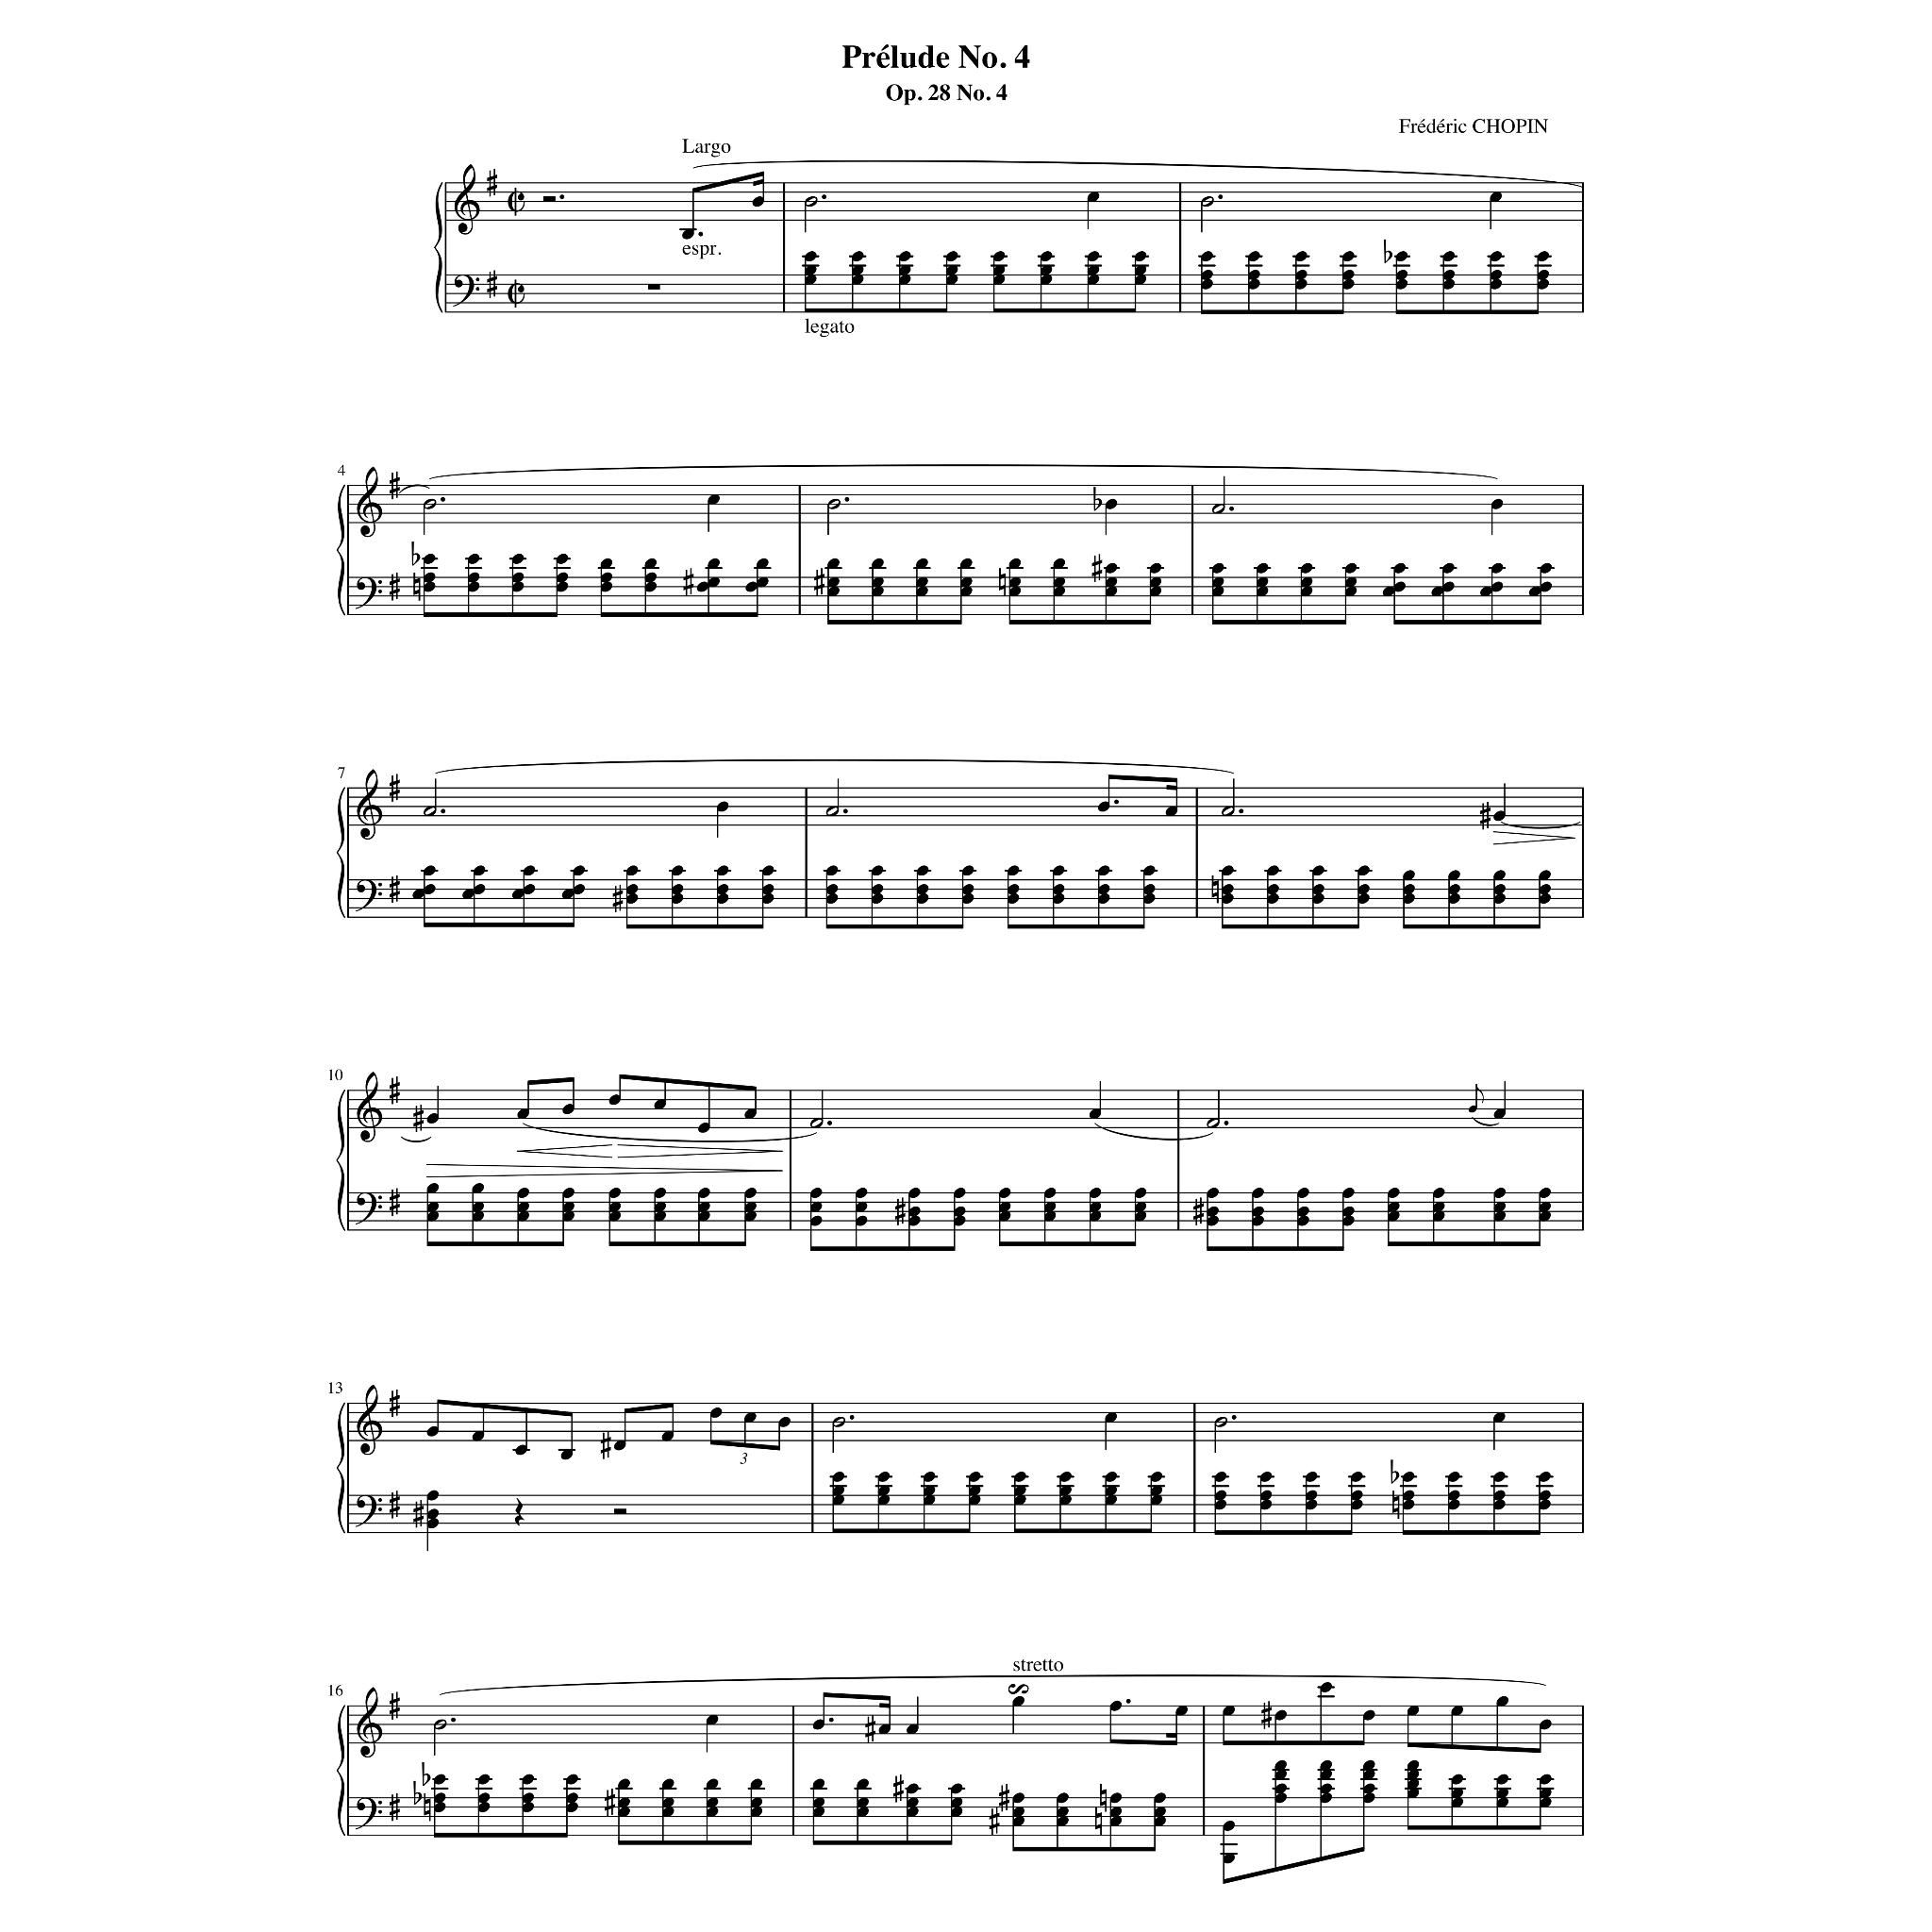brace: (336, 1090, 345, 1231), (433, 182, 442, 315), (336, 1401, 345, 1534), (336, 1704, 345, 1836), (336, 485, 345, 616), (336, 787, 345, 918)
fClef: (354, 577, 382, 610), (354, 879, 382, 913), (354, 1495, 382, 1529), (354, 1798, 382, 1831), (354, 1192, 382, 1224), (453, 274, 479, 308)
flag8thUp: (1476, 1085, 1484, 1104)
gClef: (356, 465, 382, 538), (356, 1384, 382, 1456), (356, 1686, 382, 1759), (453, 165, 479, 235), (356, 770, 382, 840), (356, 1072, 382, 1143)
noteheadBlack: (1247, 269, 1260, 281), (1295, 269, 1307, 281), (1134, 274, 1146, 287), (1536, 269, 1548, 281), (1490, 269, 1502, 281), (1341, 269, 1353, 281), (1394, 269, 1407, 281), (1442, 269, 1454, 281), (1490, 191, 1502, 203), (993, 274, 1005, 287), (1039, 274, 1051, 287), (1086, 191, 1099, 203), (1086, 274, 1099, 287), (851, 274, 863, 287), (897, 274, 909, 287), (1212, 586, 1224, 598), (1148, 586, 1161, 598), (1053, 586, 1065, 598), (1008, 586, 1021, 598), (1106, 586, 1118, 598), (1539, 580, 1552, 593), (1529, 586, 1541, 598), (1490, 580, 1502, 593), (1479, 586, 1491, 598), (1345, 586, 1357, 598), (1300, 586, 1313, 598), (1254, 586, 1267, 598), (1442, 580, 1454, 593), (1431, 586, 1444, 598), (1392, 580, 1405, 593), (1382, 586, 1394, 598), (556, 571, 568, 584), (556, 580, 568, 593), (511, 571, 524, 584), (511, 580, 524, 593), (467, 571, 479, 584), (467, 580, 479, 593), (644, 571, 656, 584), (600, 571, 612, 584), (600, 580, 612, 593), (644, 580, 656, 593), (423, 571, 435, 584), (423, 580, 435, 593), (826, 586, 839, 598), (870, 586, 883, 598), (695, 580, 708, 593), (708, 494, 720, 506), (915, 586, 927, 598), (745, 580, 757, 593), (1164, 805, 1177, 817), (561, 888, 573, 901), (511, 888, 524, 901), (462, 888, 474, 901), (412, 888, 425, 901), (1207, 1187, 1219, 1200), (1207, 1205, 1219, 1217), (1134, 1187, 1146, 1200), (1134, 1201, 1146, 1214), (1251, 1205, 1263, 1217), (1251, 1187, 1263, 1200), (998, 1187, 1010, 1200), (998, 1201, 1010, 1214), (954, 1187, 966, 1200), (954, 1205, 966, 1217), (1090, 1201, 1102, 1214), (1090, 1187, 1102, 1200), (1044, 1187, 1056, 1200), (1044, 1201, 1056, 1214), (1537, 1187, 1550, 1200), (1537, 1201, 1550, 1214), (1387, 1187, 1399, 1200), (1387, 1201, 1399, 1214), (1341, 1187, 1353, 1200), (1341, 1205, 1353, 1217), (1297, 1187, 1309, 1200), (1297, 1205, 1309, 1217), (1493, 1187, 1506, 1200), (1493, 1201, 1506, 1214), (1433, 1187, 1445, 1200), (1433, 1201, 1445, 1214), (517, 1187, 529, 1200), (517, 1201, 529, 1214), (609, 1187, 621, 1200), (653, 1099, 665, 1111), (908, 1187, 920, 1200), (609, 1201, 621, 1214), (471, 1201, 483, 1214), (426, 1201, 439, 1214), (426, 1113, 439, 1125), (810, 1187, 823, 1200), (810, 1201, 823, 1214), (908, 1205, 920, 1217), (855, 1187, 867, 1200), (855, 1201, 867, 1214), (697, 1187, 709, 1200), (697, 1201, 709, 1214), (653, 1187, 665, 1200), (653, 1201, 665, 1214), (743, 1201, 755, 1214), (743, 1187, 755, 1200), (1214, 1499, 1226, 1511), (1014, 1484, 1026, 1497), (1150, 1484, 1162, 1497), (1104, 1484, 1116, 1497), (1104, 1412, 1116, 1424), (1537, 1499, 1550, 1511), (1403, 1499, 1415, 1511), (1350, 1499, 1362, 1511), (1306, 1499, 1318, 1511), (1447, 1499, 1460, 1511), (1493, 1499, 1506, 1511), (1493, 1412, 1506, 1424), (515, 1444, 527, 1456), (471, 1430, 483, 1442), (922, 1484, 934, 1497), (968, 1484, 980, 1497), (878, 1484, 890, 1497), (743, 1412, 755, 1424), (832, 1484, 844, 1497), (1320, 1759, 1332, 1771), (1274, 1759, 1286, 1771), (1274, 1709, 1286, 1721), (1109, 1700, 1122, 1713), (1109, 1815, 1122, 1828), (1056, 1815, 1069, 1828), (1223, 1852, 1235, 1865), (1223, 1704, 1235, 1716), (1175, 1704, 1187, 1716), (1154, 1815, 1166, 1828), (1539, 1773, 1552, 1785), (1539, 1787, 1552, 1799), (1539, 1718, 1552, 1730), (1495, 1773, 1507, 1785), (1495, 1787, 1507, 1799), (1495, 1695, 1507, 1707), (1407, 1787, 1419, 1799), (1407, 1704, 1419, 1716), (1407, 1759, 1419, 1771), (1362, 1759, 1375, 1771), (1362, 1709, 1375, 1721), (1451, 1773, 1463, 1785), (1451, 1787, 1463, 1799), (1451, 1704, 1463, 1716), (566, 1773, 579, 1785), (566, 1801, 579, 1813), (522, 1773, 534, 1785), (522, 1801, 534, 1813), (433, 1801, 446, 1813), (433, 1773, 446, 1785), (906, 1723, 918, 1736), (878, 1723, 890, 1736), (1012, 1815, 1024, 1828), (1012, 1695, 1024, 1707), (812, 1718, 824, 1730), (1247, 280, 1260, 290), (1247, 251, 1260, 262), (1295, 280, 1307, 290), (1295, 251, 1307, 262), (1086, 251, 1099, 262), (1134, 265, 1146, 276), (1134, 251, 1146, 262), (1201, 269, 1212, 281), (1536, 251, 1548, 262), (1536, 280, 1548, 290), (1490, 251, 1502, 262), (1341, 280, 1353, 290), (1341, 251, 1353, 262), (1394, 280, 1407, 290), (1394, 251, 1407, 262), (1442, 280, 1454, 290), (1442, 251, 1454, 262), (1490, 280, 1502, 290), (752, 196, 764, 207), (805, 274, 816, 287), (1086, 265, 1099, 276), (681, 228, 694, 239), (993, 265, 1005, 276), (993, 251, 1005, 262), (947, 274, 957, 287), (897, 251, 909, 262), (1039, 265, 1051, 276), (1039, 251, 1051, 262), (897, 265, 909, 276), (851, 265, 863, 276), (851, 251, 863, 262), (1212, 563, 1224, 573), (1212, 577, 1224, 587), (1148, 563, 1161, 573), (1148, 577, 1161, 587), (961, 586, 971, 598), (1008, 577, 1021, 587), (1008, 559, 1021, 570), (1053, 577, 1065, 587), (1106, 563, 1118, 573), (1106, 577, 1118, 587), (1106, 499, 1118, 510), (1053, 559, 1065, 570), (1539, 563, 1552, 573), (1490, 563, 1502, 573), (1490, 499, 1502, 510), (1345, 577, 1357, 587), (1300, 563, 1313, 573), (1300, 577, 1313, 587), (1345, 563, 1357, 573), (1254, 563, 1267, 573), (1254, 577, 1267, 587), (1442, 563, 1454, 573), (1392, 563, 1405, 573), (511, 554, 524, 564), (556, 554, 568, 564), (467, 554, 479, 564), (644, 559, 656, 570), (600, 559, 612, 570), (423, 554, 435, 564), (870, 559, 883, 570), (870, 577, 883, 587), (826, 559, 839, 570), (826, 577, 839, 587), (708, 559, 720, 570), (708, 577, 720, 587), (755, 559, 768, 570), (755, 577, 768, 587), (915, 577, 927, 587), (915, 559, 927, 570), (1221, 865, 1233, 876), (1221, 885, 1233, 895), (1221, 893, 1233, 904), (1097, 801, 1109, 812), (1053, 865, 1065, 876), (1053, 885, 1065, 895), (1053, 893, 1065, 904), (1097, 893, 1109, 904), (1007, 865, 1019, 876), (1007, 885, 1019, 895), (1007, 893, 1019, 904), (1143, 865, 1155, 876), (1143, 885, 1155, 895), (1143, 893, 1155, 904), (1097, 865, 1109, 876), (1097, 885, 1109, 895), (1537, 870, 1550, 881), (1537, 885, 1550, 895), (1537, 893, 1550, 904), (1493, 870, 1506, 881), (1493, 885, 1506, 895), (1493, 893, 1506, 904), (1311, 885, 1323, 895), (1357, 865, 1369, 876), (1357, 885, 1369, 895), (1357, 893, 1369, 904), (1311, 865, 1323, 876), (1311, 893, 1323, 904), (1267, 865, 1279, 876), (1267, 885, 1279, 895), (1267, 893, 1279, 904), (1493, 810, 1506, 821), (1447, 870, 1460, 881), (1447, 885, 1460, 895), (1447, 893, 1460, 904), (1403, 870, 1415, 881), (1403, 885, 1415, 895), (1403, 893, 1415, 904), (522, 885, 534, 895), (571, 865, 584, 876), (571, 885, 584, 895), (522, 865, 534, 876), (472, 865, 485, 876), (472, 885, 485, 895), (671, 865, 683, 876), (671, 885, 683, 895), (625, 865, 637, 876), (625, 885, 637, 895), (625, 893, 637, 904), (423, 885, 435, 895), (423, 865, 435, 876), (671, 893, 683, 904), (915, 893, 927, 904), (915, 885, 927, 895), (915, 865, 927, 876), (870, 865, 883, 876), (870, 885, 883, 895), (870, 893, 883, 904), (824, 865, 837, 876), (961, 893, 973, 904), (961, 885, 973, 895), (717, 865, 729, 876), (717, 885, 729, 895), (961, 865, 973, 876), (717, 893, 729, 904), (717, 801, 729, 812), (824, 893, 837, 904), (824, 885, 837, 895), (1207, 1215, 1219, 1226), (1251, 1215, 1263, 1226), (998, 1210, 1010, 1221), (954, 1215, 966, 1226), (1134, 1210, 1146, 1221), (1090, 1210, 1102, 1221), (1090, 1109, 1102, 1120), (1044, 1210, 1056, 1221), (1537, 1210, 1550, 1221), (1387, 1210, 1399, 1221), (1341, 1215, 1353, 1226), (1297, 1215, 1309, 1226), (1493, 1210, 1506, 1221), (1493, 1109, 1506, 1120), (1433, 1210, 1445, 1221), (563, 1187, 573, 1200), (563, 1201, 573, 1214), (517, 1210, 529, 1221), (517, 1109, 529, 1120), (609, 1210, 621, 1221), (609, 1095, 621, 1106), (471, 1184, 483, 1194), (471, 1210, 483, 1221), (426, 1184, 439, 1194), (426, 1210, 439, 1221), (810, 1215, 823, 1226), (653, 1210, 665, 1221), (908, 1215, 920, 1226), (855, 1215, 867, 1226), (697, 1210, 709, 1221), (697, 1123, 709, 1134), (743, 1210, 755, 1221), (743, 1109, 755, 1120), (1214, 1472, 1226, 1483), (1214, 1490, 1226, 1500), (1260, 1499, 1270, 1511), (1060, 1484, 1070, 1497), (1014, 1472, 1026, 1483), (1014, 1495, 1026, 1506), (1150, 1472, 1162, 1483), (1150, 1495, 1162, 1506), (1104, 1472, 1116, 1483), (1104, 1495, 1116, 1506), (1537, 1472, 1550, 1483), (1537, 1490, 1550, 1500), (1493, 1472, 1506, 1483), (1493, 1490, 1506, 1500), (1350, 1472, 1362, 1483), (1350, 1490, 1362, 1500), (1403, 1490, 1415, 1500), (1306, 1472, 1318, 1483), (1306, 1490, 1318, 1500), (1447, 1472, 1460, 1483), (1447, 1490, 1460, 1500), (1403, 1472, 1415, 1483), (559, 1449, 571, 1460), (662, 1430, 672, 1442), (614, 1440, 626, 1451), (968, 1472, 980, 1483), (426, 1490, 439, 1500), (426, 1509, 439, 1520), (426, 1518, 439, 1529), (426, 1426, 439, 1437), (968, 1495, 980, 1506), (922, 1472, 934, 1483), (922, 1495, 934, 1506), (878, 1472, 890, 1483), (878, 1495, 890, 1506), (778, 1417, 791, 1428), (709, 1408, 722, 1419), (832, 1495, 844, 1506), (832, 1472, 844, 1483), (1320, 1792, 1332, 1803), (1320, 1683, 1332, 1693), (1320, 1769, 1332, 1780), (1320, 1783, 1332, 1794), (1274, 1769, 1286, 1780), (1274, 1783, 1286, 1794), (1274, 1792, 1286, 1803), (1109, 1792, 1122, 1803), (1109, 1806, 1122, 1817), (1056, 1792, 1069, 1803), (1056, 1806, 1069, 1817), (1223, 1821, 1235, 1831), (1154, 1792, 1166, 1803), (1154, 1806, 1166, 1817), (1539, 1798, 1552, 1808), (1495, 1798, 1507, 1808), (1407, 1769, 1419, 1780), (1407, 1778, 1419, 1789), (1362, 1769, 1375, 1780), (1362, 1783, 1375, 1794), (1362, 1792, 1375, 1803), (1451, 1798, 1463, 1808), (617, 1778, 630, 1789), (617, 1798, 630, 1808), (617, 1806, 630, 1817), (566, 1792, 579, 1803), (522, 1792, 534, 1803), (750, 1778, 763, 1789), (750, 1798, 763, 1808), (750, 1806, 763, 1817), (706, 1778, 718, 1789), (706, 1798, 718, 1808), (706, 1806, 718, 1817), (706, 1714, 718, 1725), (662, 1778, 674, 1789), (662, 1798, 674, 1808), (662, 1806, 674, 1817), (478, 1773, 488, 1785), (478, 1801, 488, 1813), (433, 1792, 446, 1803), (906, 1783, 918, 1794), (906, 1798, 918, 1808), (906, 1806, 918, 1817), (1012, 1792, 1024, 1803), (1012, 1806, 1024, 1817), (950, 1783, 962, 1794), (950, 1798, 962, 1808), (950, 1806, 962, 1817), (812, 1778, 824, 1789), (812, 1798, 824, 1808), (812, 1806, 824, 1817), (856, 1778, 869, 1789), (856, 1798, 869, 1808), (856, 1806, 869, 1817), (1201, 280, 1212, 290), (1201, 251, 1212, 262), (805, 265, 816, 276), (805, 251, 816, 262), (947, 265, 957, 276), (947, 251, 957, 262), (961, 559, 971, 570), (961, 577, 971, 587), (763, 893, 773, 904), (763, 865, 773, 876), (763, 885, 773, 895), (563, 1210, 573, 1221), (563, 1104, 573, 1115), (1260, 1472, 1270, 1483), (1260, 1490, 1270, 1500), (1060, 1472, 1070, 1483), (1060, 1495, 1070, 1506), (478, 1792, 488, 1803), (1468, 1106, 1477, 1113)
noteheadHalf: (1221, 805, 1235, 817), (423, 805, 435, 817), (826, 805, 839, 817), (433, 1718, 446, 1730), (803, 196, 817, 207), (809, 1118, 823, 1129), (1214, 1417, 1228, 1428), (832, 1417, 846, 1428), (1201, 196, 1214, 207), (1212, 504, 1224, 515), (423, 499, 435, 510), (828, 499, 840, 510), (1207, 1118, 1219, 1129)
restHalf: (543, 196, 556, 202), (614, 1509, 626, 1514)
restQuarter: (513, 1497, 524, 1527)
restWhole: (648, 283, 660, 290)
